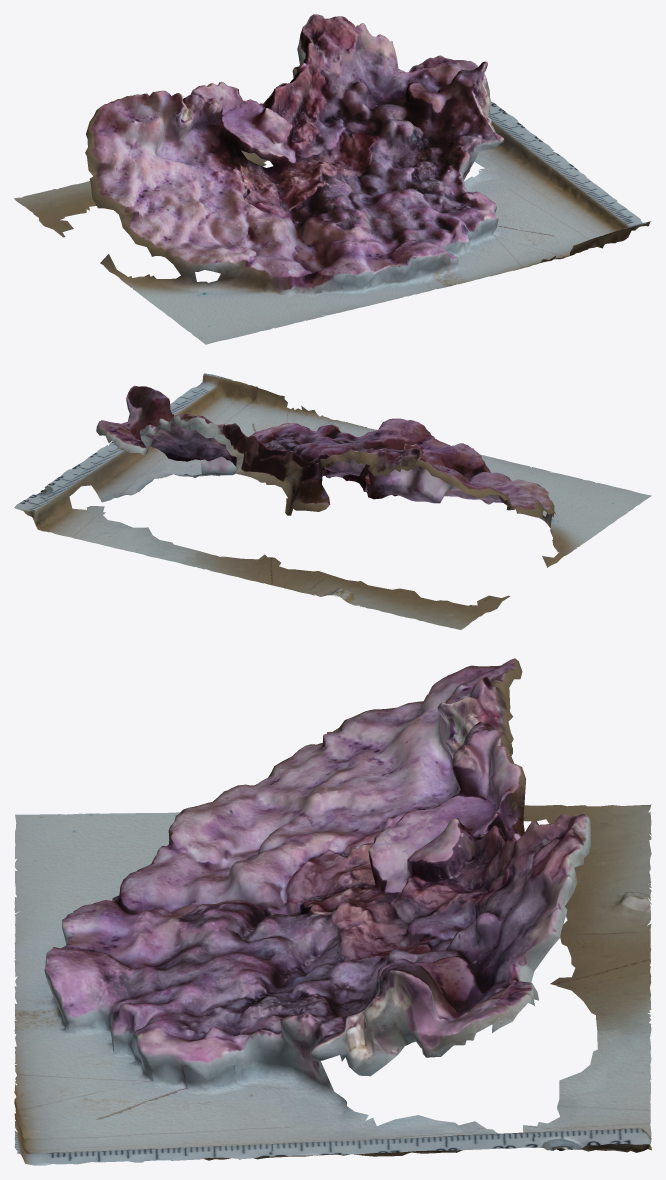
The model's file is Sample2.glb.
3 renders of one model, top to bottom at view 1: azimuth 30°, elevation 25°; view 2: azimuth 150°, elevation 25°; view 3: azimuth 270°, elevation 25°, orthographic. The views are drawn at different scales.
Parts seen in each view (by area): view 1: Sample2; view 2: Sample2; view 3: Sample2.
Part boxes in pixels (bbox=[...]): Sample2: bbox=[14, 14, 651, 344]; Sample2: bbox=[14, 373, 651, 629]; Sample2: bbox=[14, 658, 651, 1165].
Bounding box in the file's own units: 0.1496 × 0.0436 × 0.1104.
Materials: 2 (2 with a texture image).
